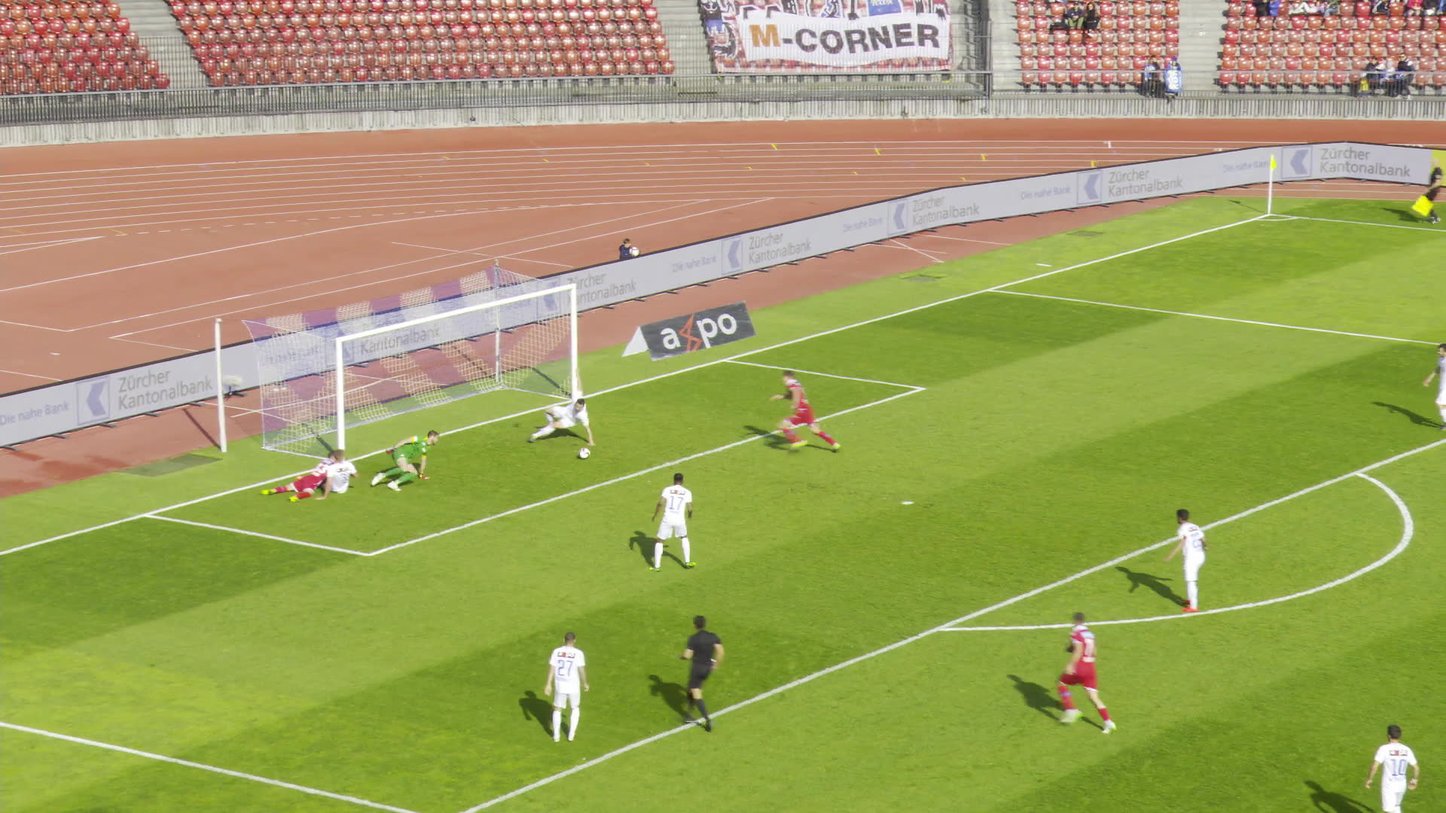ball: (575, 447, 588, 458)
player: (1063, 612, 1121, 735), (773, 368, 843, 455), (526, 370, 595, 445), (541, 629, 587, 741), (1161, 507, 1210, 611), (1365, 723, 1421, 812), (647, 472, 696, 571), (371, 427, 438, 490), (259, 449, 337, 501), (294, 449, 360, 500), (1421, 342, 1445, 429)
referee: (672, 614, 725, 730), (1411, 159, 1443, 224)
